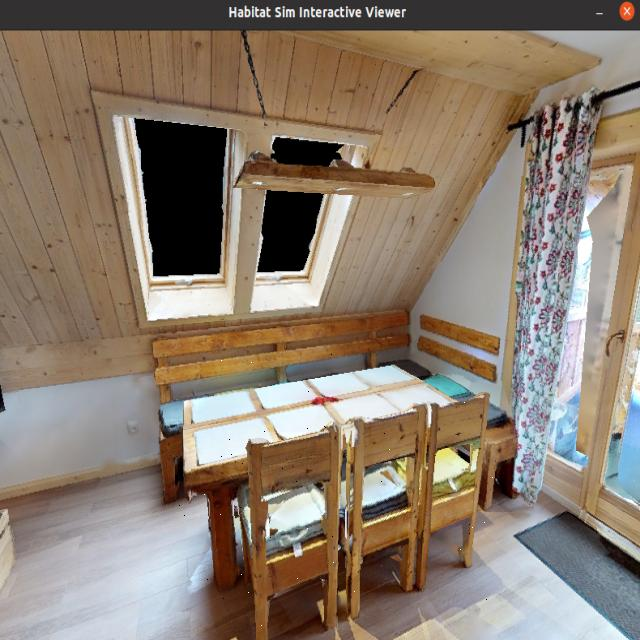chair: (217, 419, 351, 640), (397, 375, 519, 604), (331, 398, 432, 613)
table: (176, 343, 460, 581)
